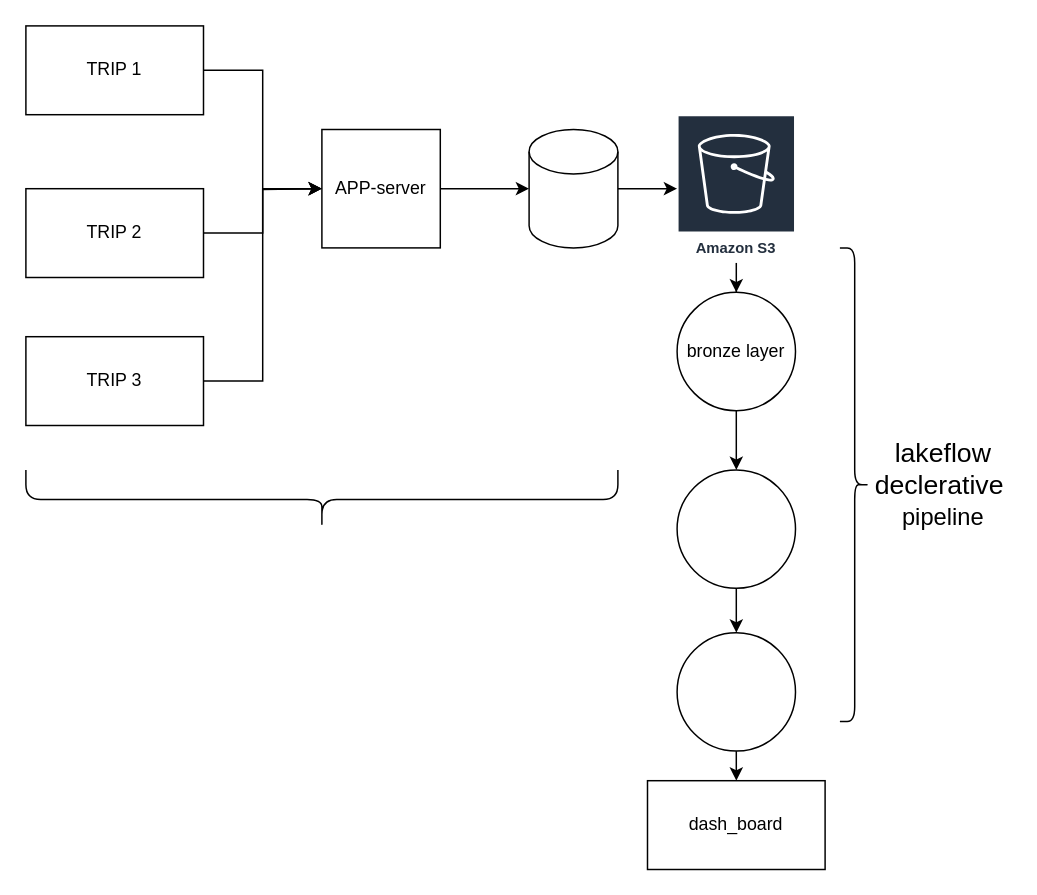
Image size: 1037x895. Some labels were removed from this diagram. Each missing label, with the centre of its shape:
gold layer: the point at 736,691
RDB: the point at 573,188
silver layer: the point at 736,528
simpfied version of the transport systems: the point at 321,498
